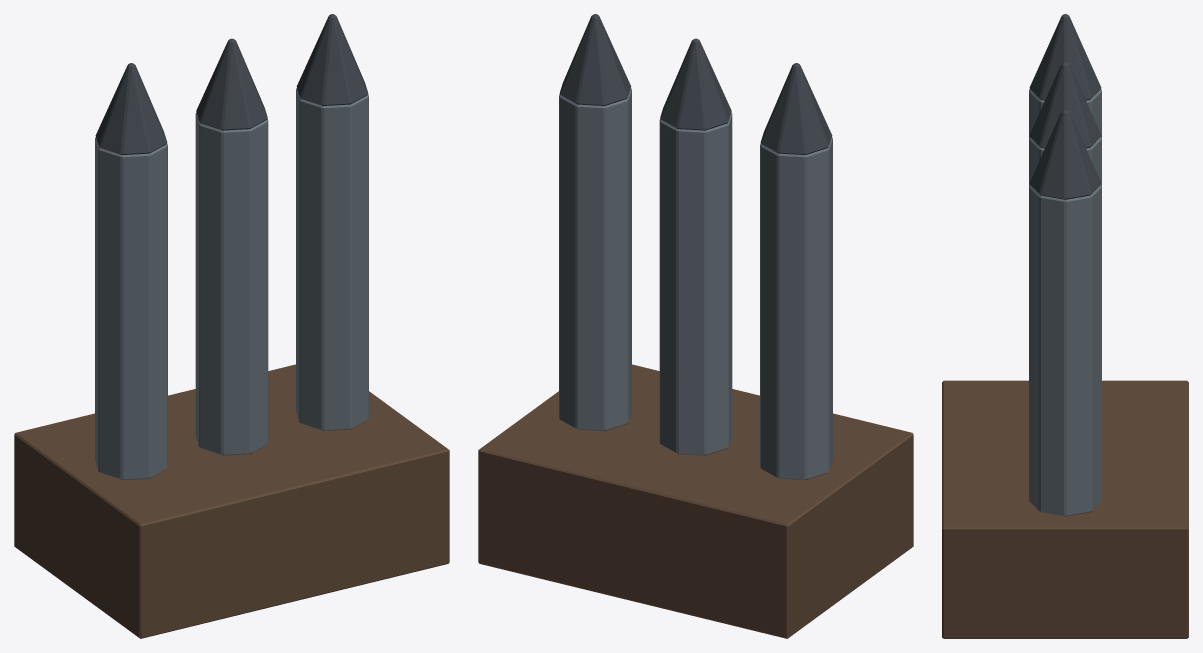
File: Firearm_820.fbx
3 renders of one model, left to right at view 1: azimuth 30°, elevation 25°; view 2: azimuth 150°, elevation 25°; view 3: azimuth 270°, elevation 25°, orthographic. The views are drawn at different scales.
Visible parts, largest first — view 1: Firearm_820; view 2: Firearm_820; view 3: Firearm_820.
Part boxes in pixels (bbox=[...]): Firearm_820: bbox=[14, 14, 449, 638]; Firearm_820: bbox=[478, 14, 913, 638]; Firearm_820: bbox=[942, 14, 1188, 638].
Bounding box in the file's own units: 0.17 × 0.27 × 0.12.
